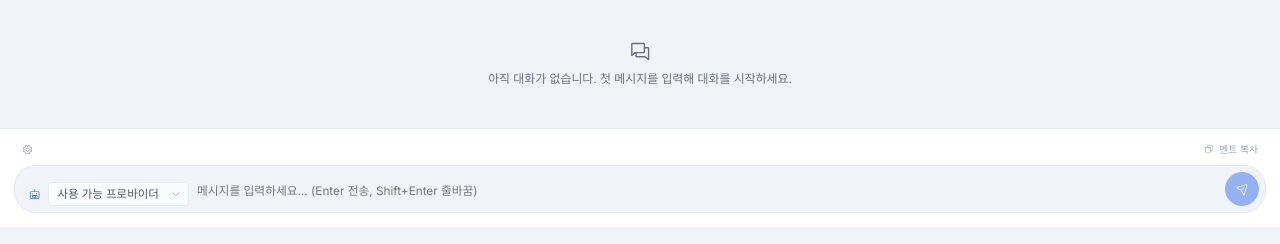
Test: 0391 §7-6 — chat 422 shows the server reason on screen › renders the fingerprint-mismatch reason including both counts
The image size is (1280, 244).
Type "??? ??? ??? ??" into the text box with class "conv-input".
click(707, 192); type("??? ??? ??? ??")  # box [197,178,1217,206]
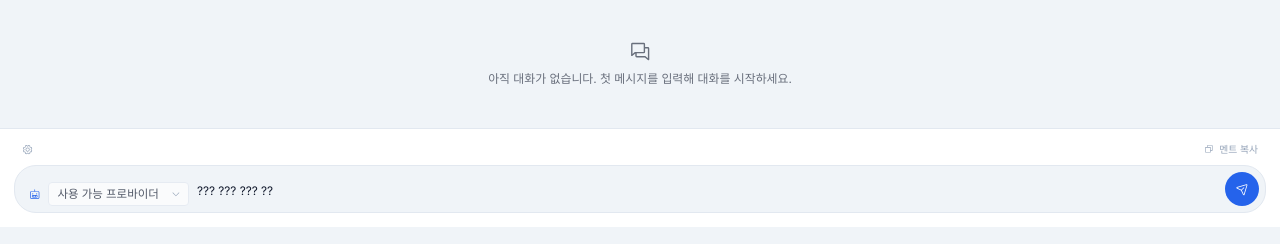
Expected: the button with class "conv-send" is enabled, [1225,172,1259,206]
Submit the form, box [0,128,1279,227]
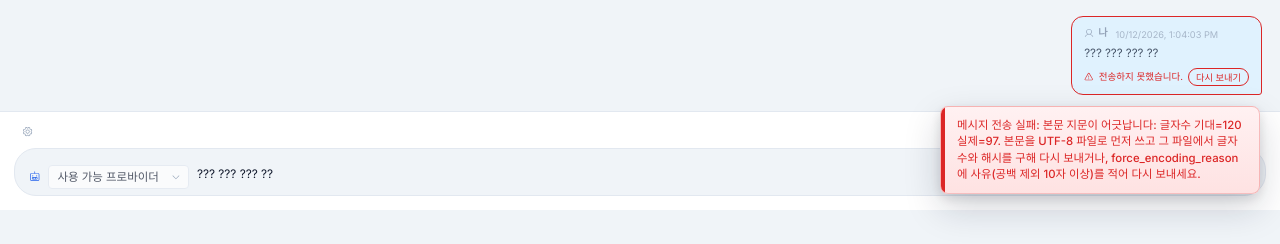
Expected: the text "기대=120" is shown, [957,118,1245,182]
Expected: the text "실제=97" is shown, [957,118,1245,182]
